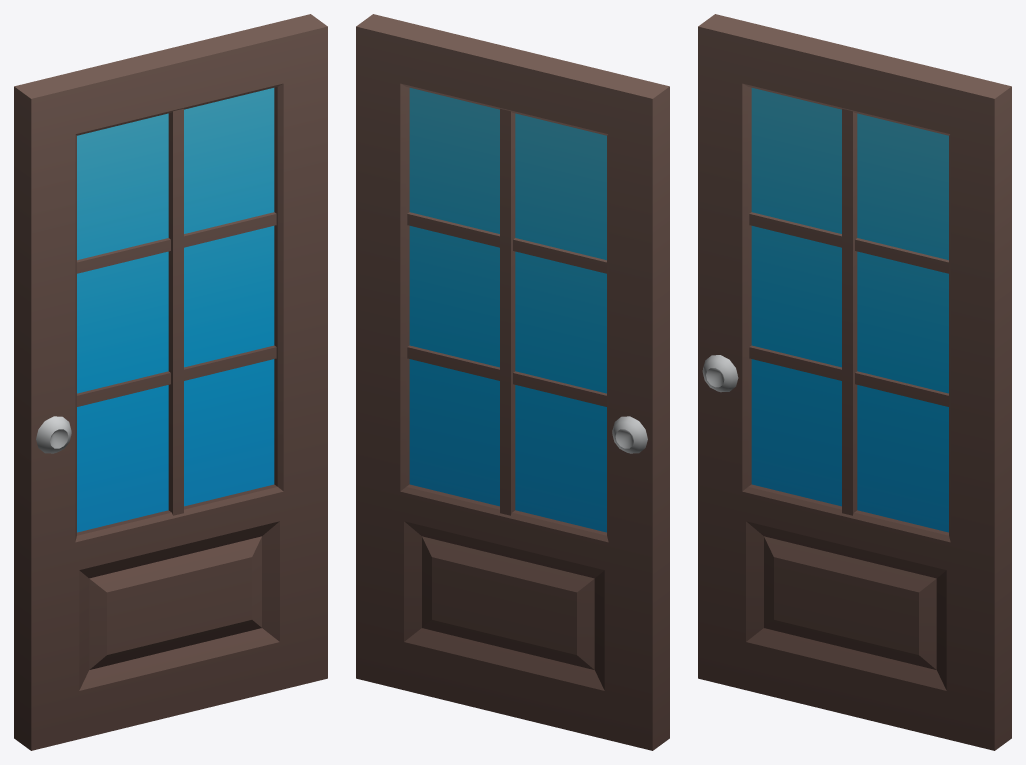
The model's file is Door_Brown_01.glb.
The picture shows the model from 3 angles, left to right: view 1: azimuth 30°, elevation 25°; view 2: azimuth 150°, elevation 25°; view 3: azimuth 330°, elevation 25°; orthographic projection.
Parts seen in each view (by area): view 1: Door_Brown_01; view 2: Door_Brown_01; view 3: Door_Brown_01.
Part boxes in pixels (x1,y1,x2,y2): Door_Brown_01: (14,14,327,750); Door_Brown_01: (356,14,669,750); Door_Brown_01: (698,14,1011,750).
Size of the model in its own units: 1 by 2.1 by 0.1634.
Materials: 2 (2 with a texture image).
